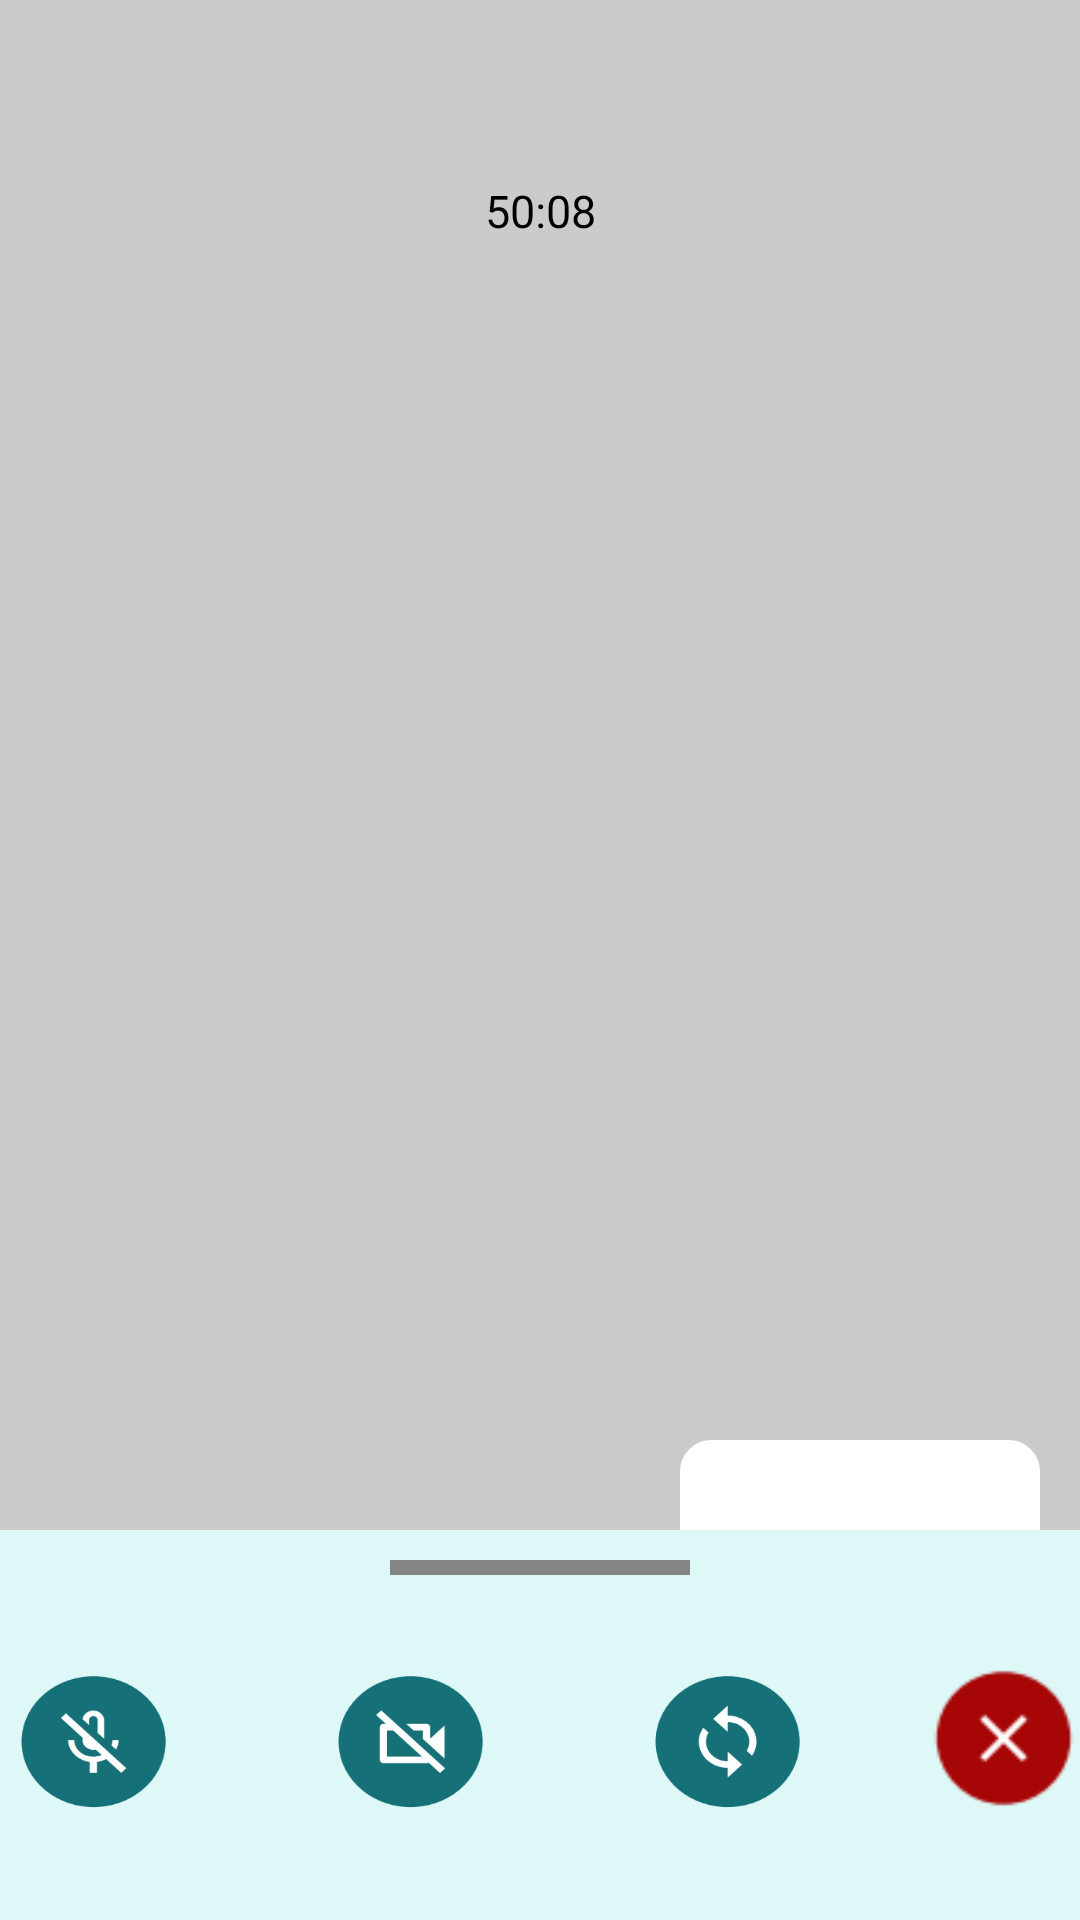

Icon click points for this 1080w x 1920h phone screenshot, format point (x, y):
callend: point (1004, 1738)
